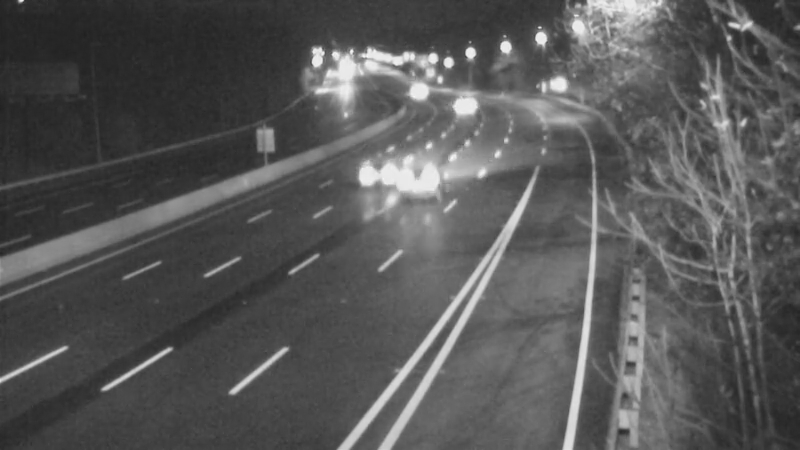vehicle: (335, 131, 415, 211), (377, 147, 457, 227), (388, 63, 438, 113), (433, 82, 483, 132)
